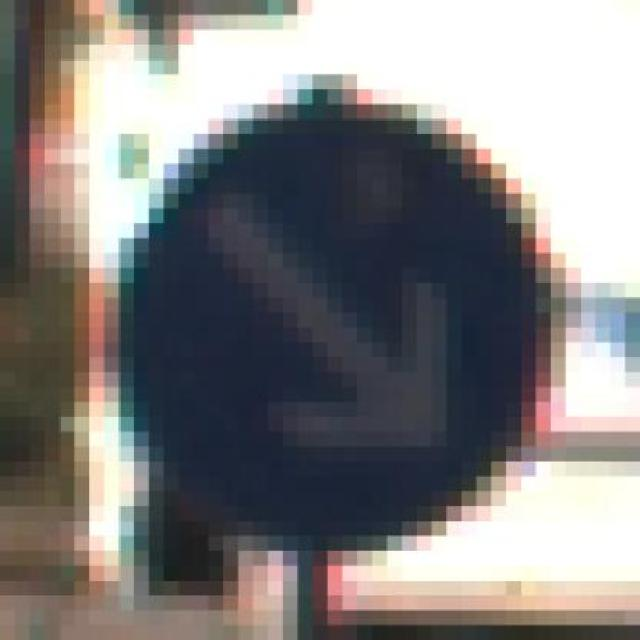Keep-Right: (74, 89, 580, 566)
